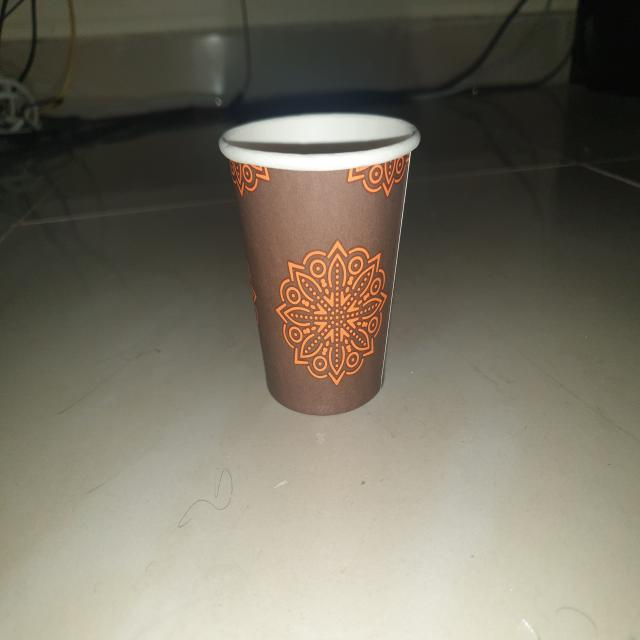cups: (215, 106, 422, 415)
